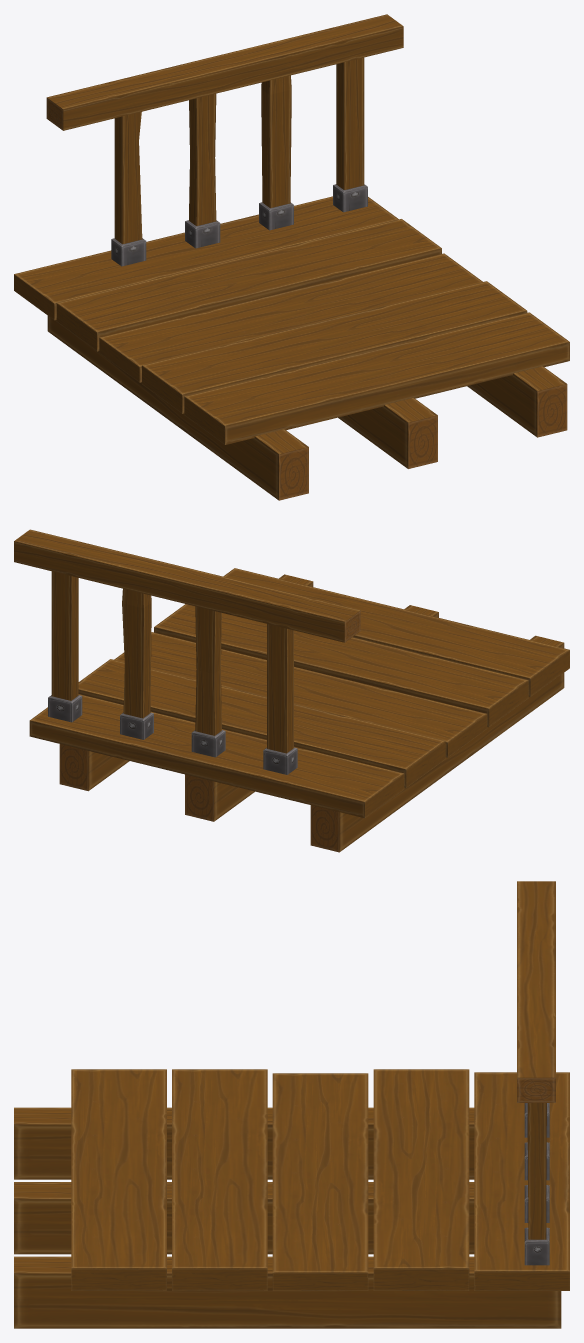
Rendered from SM_Platform_Exterior_02.fbx.
3 renders of one model, top to bottom at view 1: azimuth 30°, elevation 25°; view 2: azimuth 150°, elevation 25°; view 3: azimuth 270°, elevation 25°, orthographic. The views are drawn at different scales.
Parts seen in each view (by area): view 1: SM_Platform_Exterior_02; view 2: SM_Platform_Exterior_02; view 3: SM_Platform_Exterior_02.
Boxes of the visible parts, bbox=[...] form: SM_Platform_Exterior_02: bbox=[14, 14, 569, 500]; SM_Platform_Exterior_02: bbox=[14, 529, 569, 852]; SM_Platform_Exterior_02: bbox=[14, 881, 569, 1328].
Bounding box in the file's own units: 1.99 × 1.22 × 2.21.
